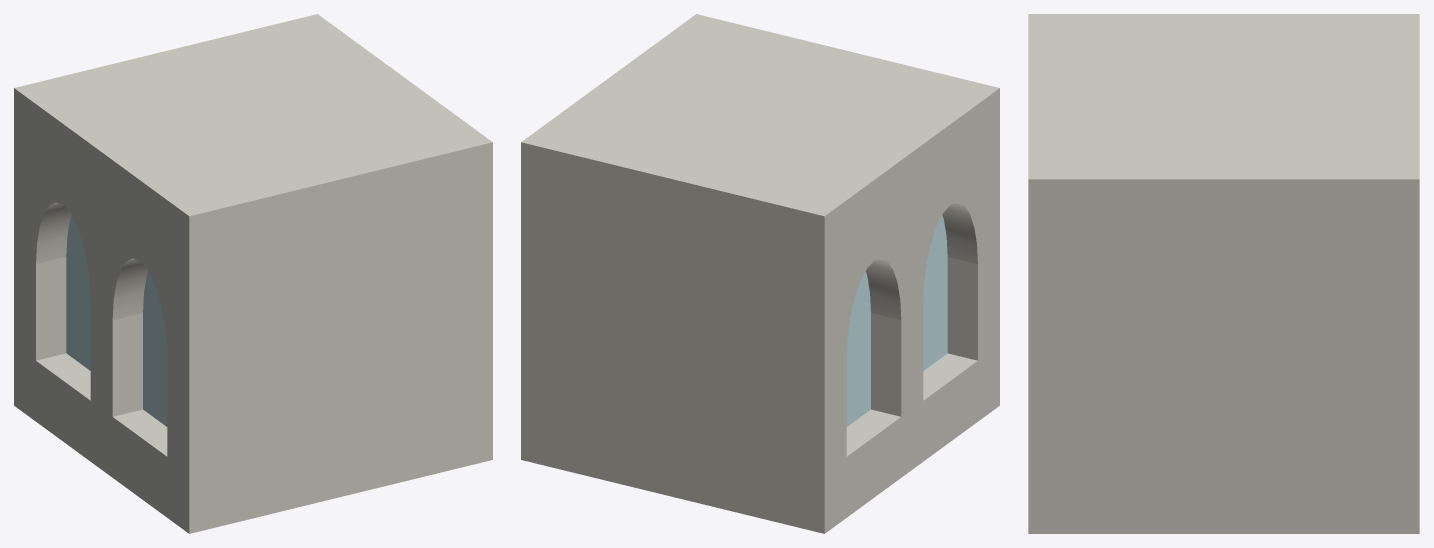
File: Building Story 9.fbx
3 renders of one model, left to right at view 1: azimuth 30°, elevation 25°; view 2: azimuth 150°, elevation 25°; view 3: azimuth 270°, elevation 25°, orthographic. The views are drawn at different scales.
Visible parts, largest first — view 1: Building Story 9; view 2: Building Story 9; view 3: Building Story 9.
Boxes of the visible parts, bbox=[...] form: Building Story 9: bbox=[14, 14, 492, 533]; Building Story 9: bbox=[521, 14, 999, 533]; Building Story 9: bbox=[1028, 14, 1419, 533].
Size of the model in its own units: 1 by 1 by 1.
